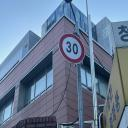speed_limit_30: (58, 32, 86, 67)
